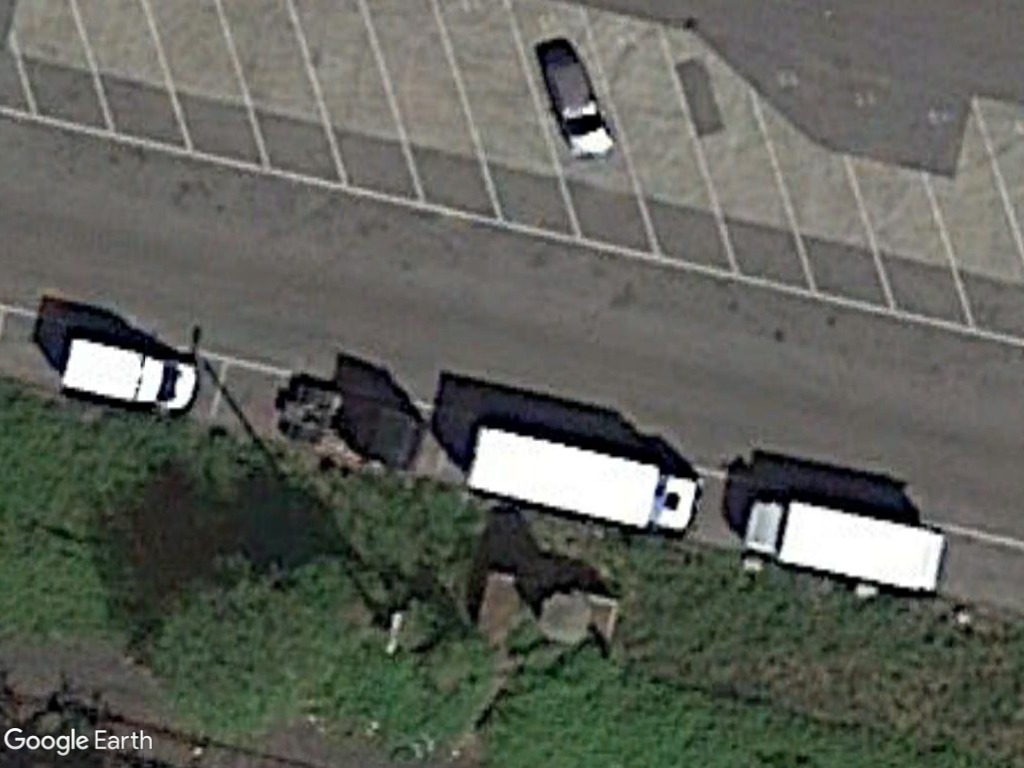car: (541, 46, 619, 167)
truck: (461, 419, 703, 543), (739, 492, 953, 597), (56, 323, 203, 417)
